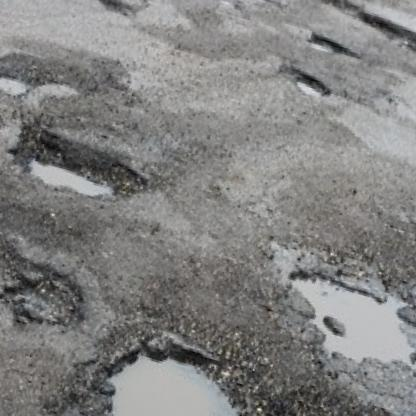pothole: (266, 258, 416, 388), (86, 327, 258, 416), (2, 120, 154, 216), (0, 239, 98, 350), (328, 0, 416, 61), (275, 59, 336, 107), (0, 0, 146, 20), (301, 28, 363, 66), (0, 47, 42, 100)
